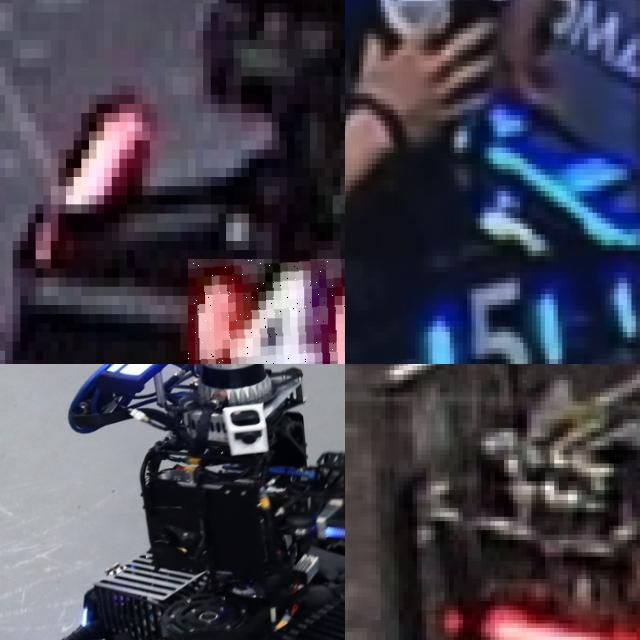B5: (428, 272, 566, 364)
R4: (188, 259, 345, 364)
